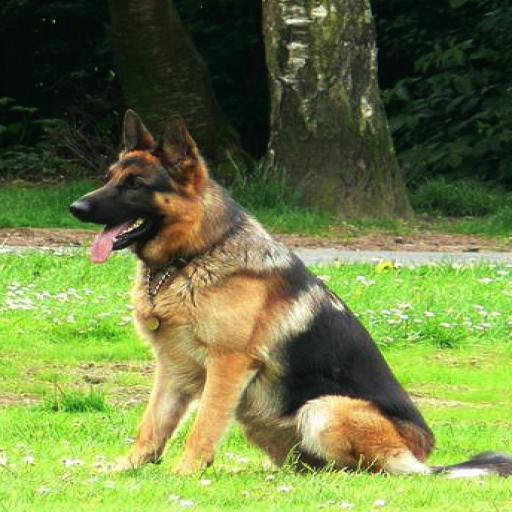dog_face: (73, 114, 205, 252)
